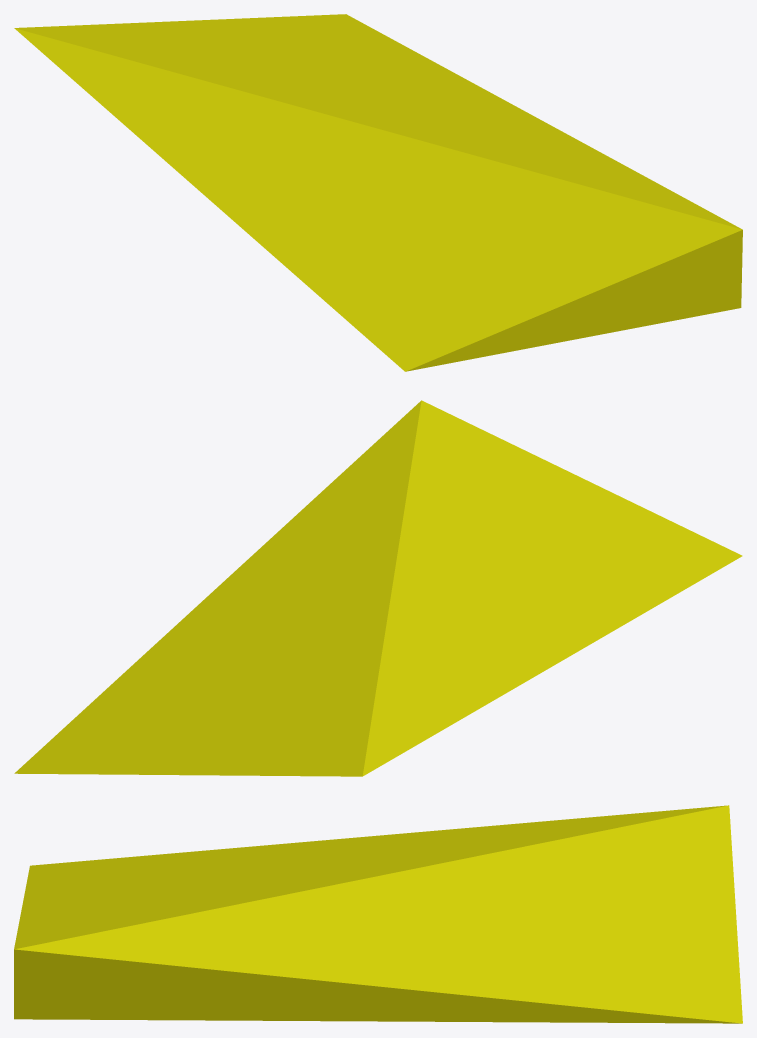
The model's file is garden_table_convex_piece_023.obj.
3 views of the same model, one above another, from view 1: azimuth 30°, elevation 25°; view 2: azimuth 150°, elevation 25°; view 3: azimuth 270°, elevation 25° (orthographic). The views are drawn at different scales.
Size of the model in its own units: 0.0632 by 0.0141 by 0.1293.
